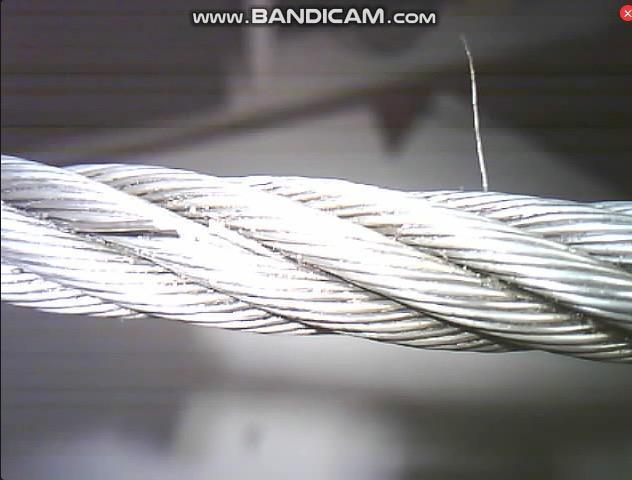break: (77, 199, 181, 243)
